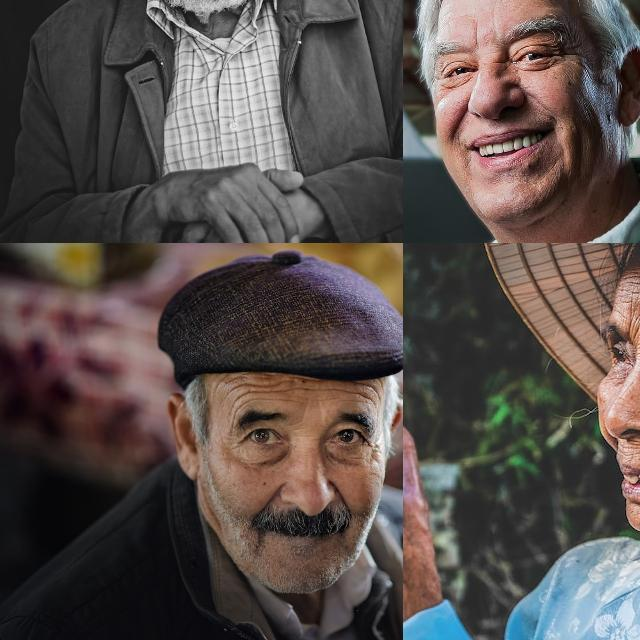bunny_line: (492, 56, 506, 74)
crows_feet: (368, 441, 384, 465), (550, 42, 566, 64), (229, 436, 247, 452)
forehead: (224, 376, 284, 406), (346, 379, 382, 405), (621, 271, 640, 302)
frown_line: (290, 417, 308, 438), (469, 28, 483, 52), (628, 309, 640, 332), (630, 339, 640, 358)
gummy_smile: (258, 476, 286, 512), (448, 104, 470, 140), (331, 480, 354, 512)
smoker_lines: (616, 442, 640, 463)
